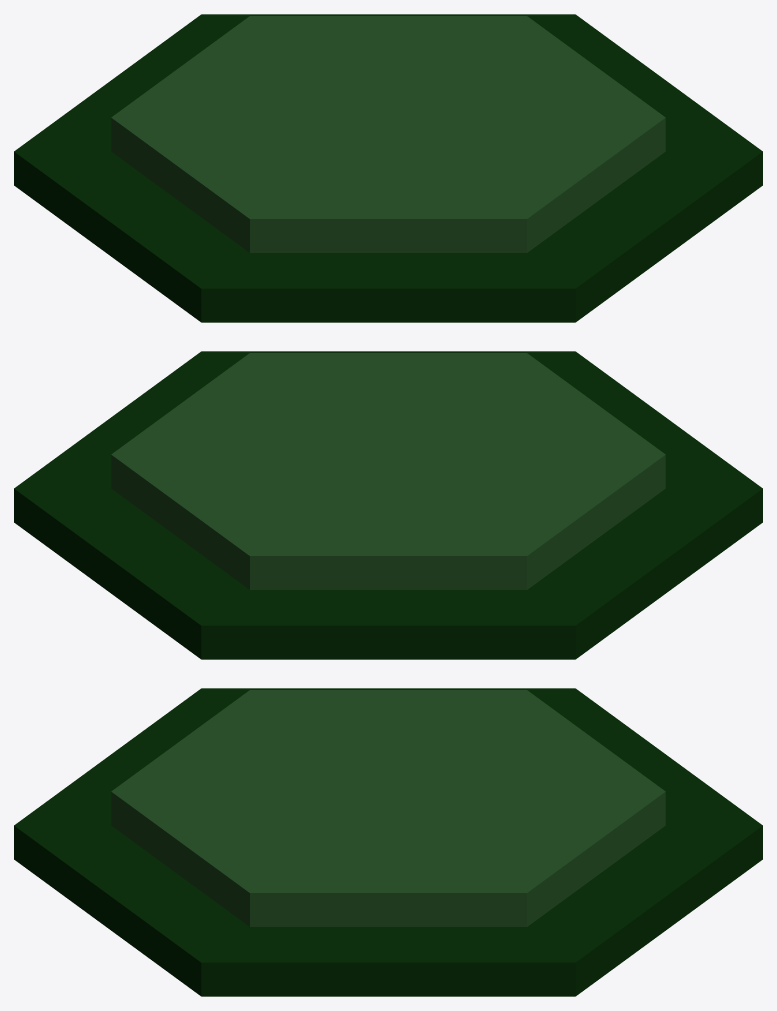
The model's file is hexagon.glb.
The picture shows the model from 3 angles, top to bottom: view 1: azimuth 30°, elevation 25°; view 2: azimuth 150°, elevation 25°; view 3: azimuth 270°, elevation 25°; orthographic projection.
Visible parts, largest first — view 1: Cylinder.001, Cylinder; view 2: Cylinder.001, Cylinder; view 3: Cylinder.001, Cylinder.
Boxes of the visible parts, x1,y1,x2,y2 form: Cylinder.001: (111, 16, 665, 252); Cylinder: (14, 14, 762, 322); Cylinder.001: (111, 353, 665, 589); Cylinder: (14, 351, 762, 659); Cylinder.001: (111, 690, 665, 926); Cylinder: (14, 688, 762, 996).
Bounding box in the file's own units: 4 × 0.4619 × 4.62.
